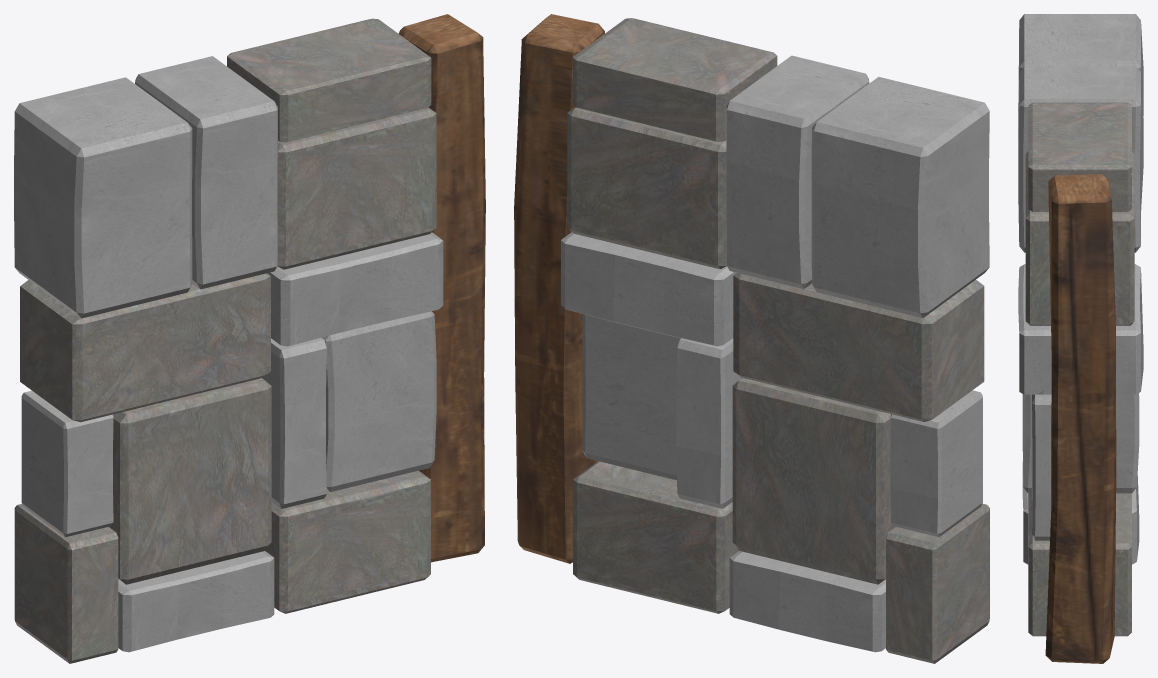
File: 7 Wall stone.fbx
3 views of the same model, side by side, from view 1: azimuth 30°, elevation 25°; view 2: azimuth 150°, elevation 25°; view 3: azimuth 270°, elevation 25° (orthographic). The views are drawn at different scales.
Visible parts, largest first — view 1: 7 Wall stone; view 2: 7 Wall stone; view 3: 7 Wall stone.
Boxes of the visible parts, left/top/right/bottom form: 7 Wall stone: left=14, top=14, right=485, bottom=663; 7 Wall stone: left=514, top=14, right=989, bottom=663; 7 Wall stone: left=1018, top=14, right=1143, bottom=663.
Size of the model in its own units: 2.1 by 2.42 by 0.5824.
